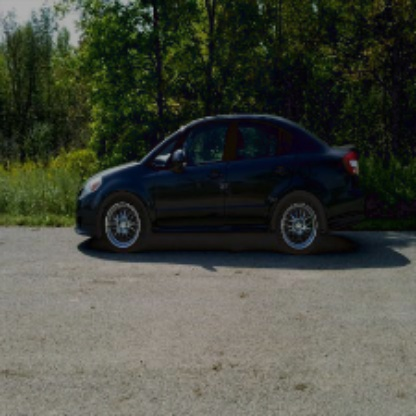Vehicle: (70, 102, 374, 260)
